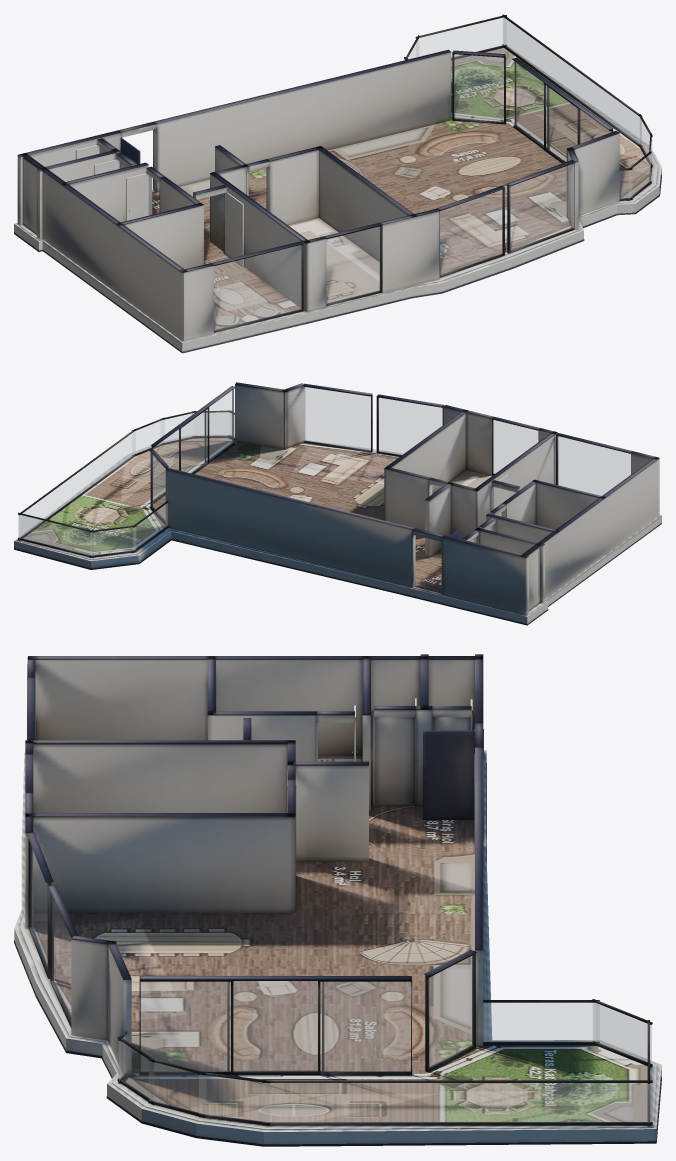
3 renders of one model, top to bottom at view 1: azimuth 30°, elevation 25°; view 2: azimuth 150°, elevation 25°; view 3: azimuth 270°, elevation 25°, orthographic. The views are drawn at different scales.
Visible parts, largest first — view 1: plan, glass0_m, glass4_m, glass2_m, glass3_m, railg1_m, glass1_m, glass5_m, railg0_m, railg5_m; view 2: plan, glass4_m, glass3_m, glass0_m, glass2_m, railg1_m, railg0_m, glass1_m, railg7_m, railg2_m, glass5_m, railg3_m (+2 smaller); view 3: plan, glass4_m, railg1_m, railg2_m, glass5_m, railg3_m, railg4_m, railg7_m, glass3_m, glass2_m, railg5_m.
Part boxes in pixels (bbox=[...]): plan: bbox=[14, 14, 661, 353]; glass0_m: bbox=[214, 245, 301, 330]; glass4_m: bbox=[514, 61, 611, 161]; glass2_m: bbox=[440, 190, 502, 275]; glass3_m: bbox=[510, 164, 572, 250]; railg1_m: bbox=[503, 18, 641, 145]; glass1_m: bbox=[326, 227, 380, 303]; glass5_m: bbox=[454, 54, 503, 121]; railg0_m: bbox=[416, 17, 505, 57]; railg5_m: bbox=[628, 154, 650, 198]; plan: bbox=[14, 382, 661, 625]; glass4_m: bbox=[153, 389, 233, 500]; glass3_m: bbox=[305, 387, 370, 450]; glass0_m: bbox=[558, 436, 630, 495]; glass2_m: bbox=[378, 398, 442, 454]; railg1_m: bbox=[19, 431, 134, 538]; railg0_m: bbox=[18, 515, 93, 555]; glass1_m: bbox=[493, 420, 537, 473]; railg7_m: bbox=[90, 527, 135, 555]; railg2_m: bbox=[133, 503, 167, 550]; glass5_m: bbox=[152, 454, 165, 519]; railg3_m: bbox=[133, 420, 163, 454]; plan: bbox=[14, 654, 661, 1146]; glass4_m: bbox=[141, 981, 410, 1071]; railg1_m: bbox=[262, 1083, 652, 1122]; railg2_m: bbox=[483, 1003, 598, 1041]; glass5_m: bbox=[429, 955, 472, 1067]; railg3_m: bbox=[199, 1075, 269, 1122]; railg4_m: bbox=[149, 1061, 205, 1114]; railg7_m: bbox=[593, 1003, 651, 1064]; glass3_m: bbox=[52, 897, 71, 1020]; glass2_m: bbox=[31, 846, 47, 968]; railg5_m: bbox=[118, 1041, 153, 1101].
Bounding box in the file's own units: 19.22 × 2.62 × 13.76.
Materials: 2 (1 with a texture image).
